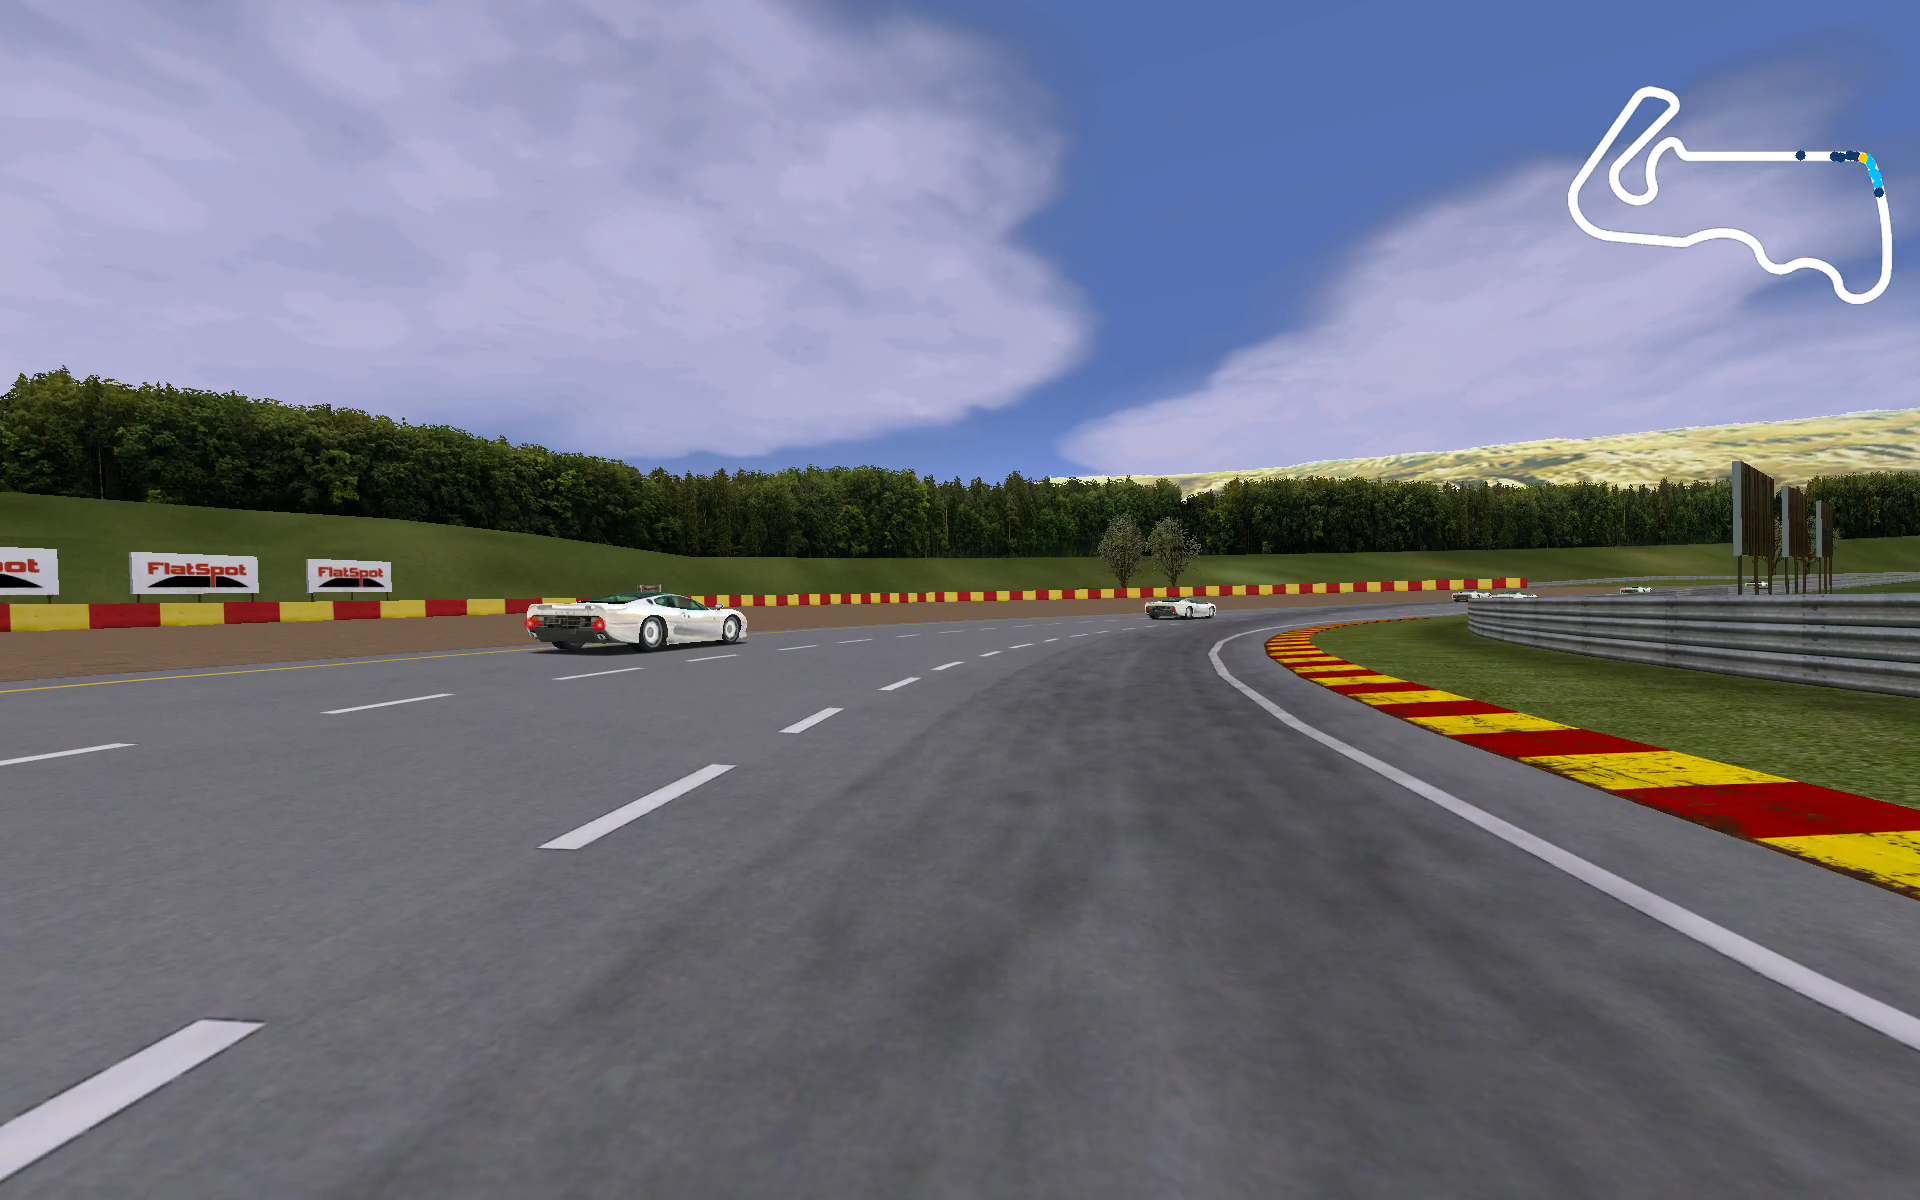car: (524, 583, 752, 654), (1145, 594, 1223, 622)
